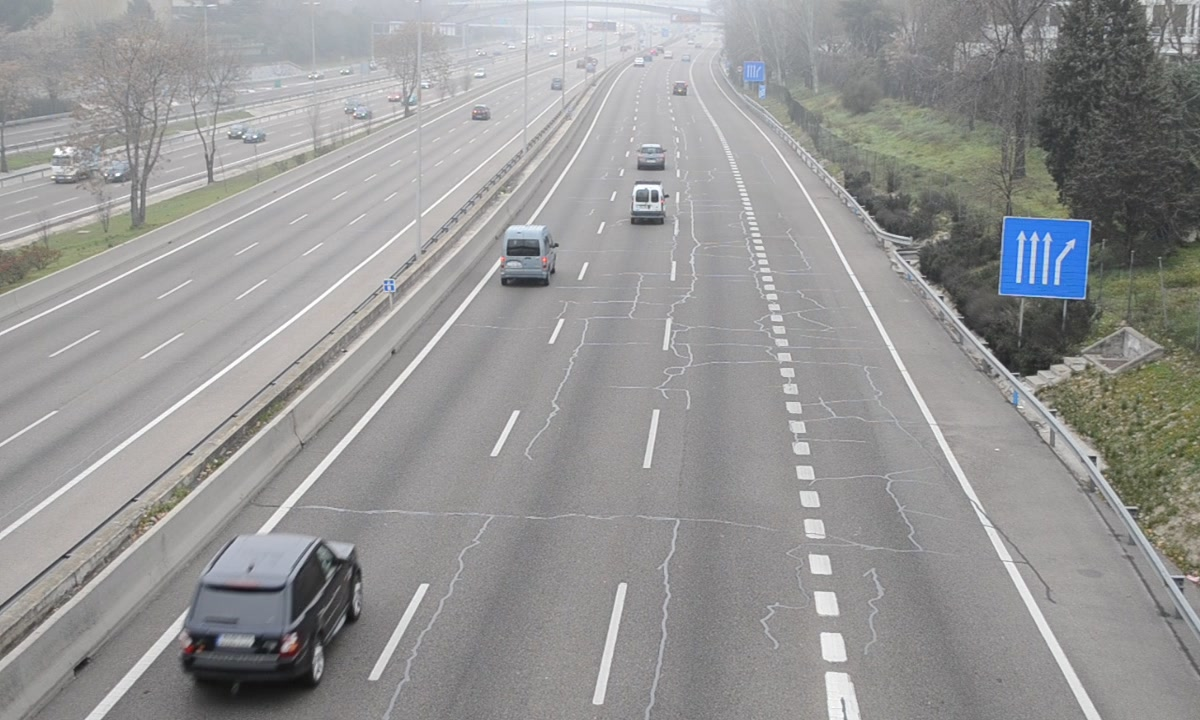car: (182, 532, 360, 684), (636, 143, 666, 170)
van: (500, 224, 558, 281), (630, 179, 668, 227)
